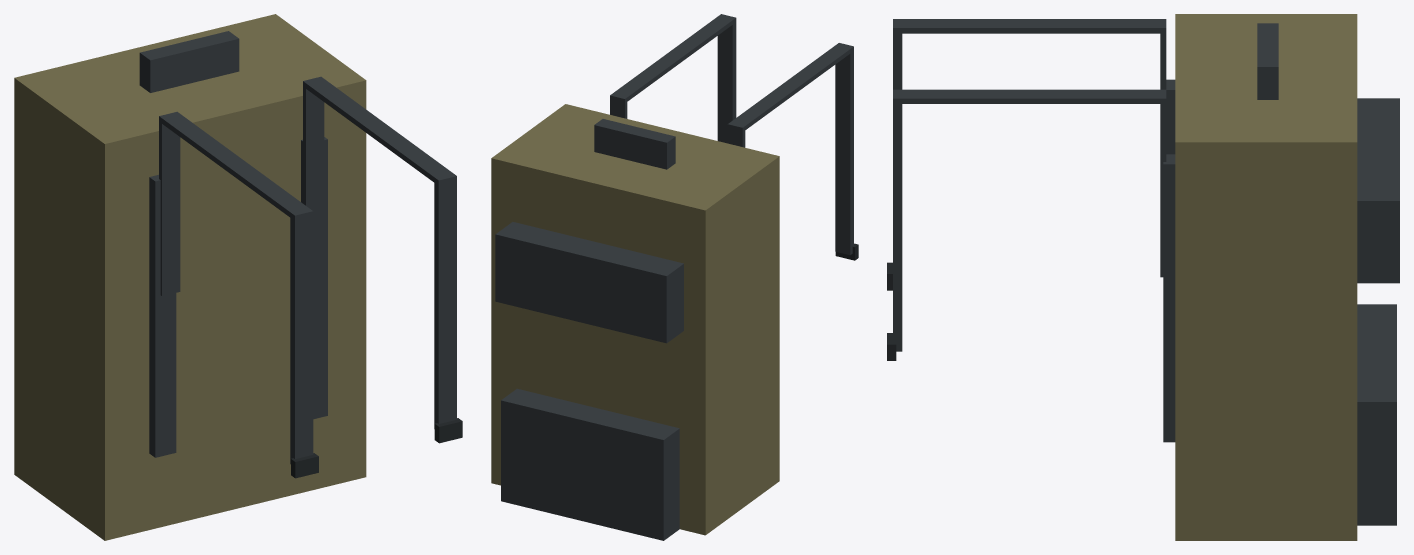
File: hiking_backpack_worn_jacket.glb
3 renders of one model, left to right at view 1: azimuth 30°, elevation 25°; view 2: azimuth 150°, elevation 25°; view 3: azimuth 270°, elevation 25°, orthographic. The views are drawn at different scales.
Parts seen in each view (by area): view 1: bag:bag, straps:straps; view 2: bag:bag, straps:straps; view 3: bag:bag, straps:straps.
Part boxes in pixels (bbox=[...]): bag:bag: bbox=[14, 14, 366, 540]; straps:straps: bbox=[159, 76, 462, 478]; bag:bag: bbox=[491, 104, 779, 540]; straps:straps: bbox=[610, 14, 858, 260]; bag:bag: bbox=[1163, 14, 1399, 540]; straps:straps: bbox=[887, 19, 1166, 360].
Bounding box in the file's own units: 0.4 × 0.628 × 0.676.
